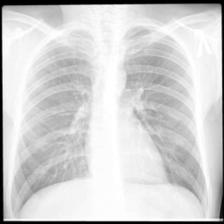tuberculosis: (11, 23, 213, 220)
